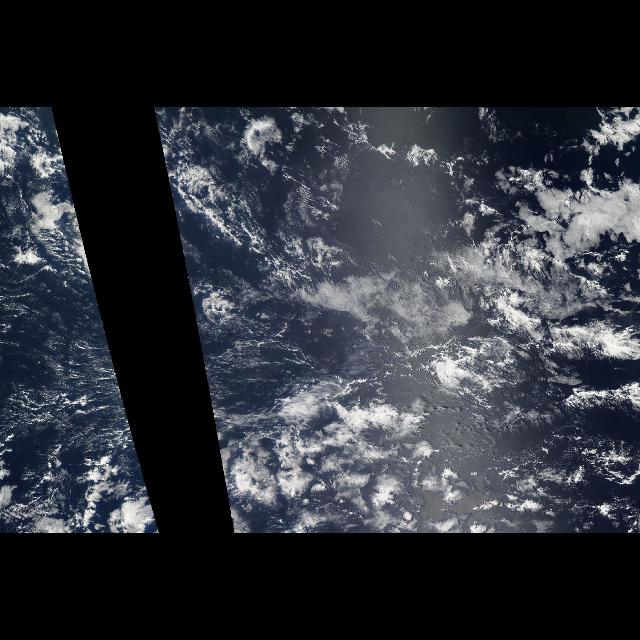Gravel: (230, 369, 628, 528)
Sugar: (22, 286, 128, 412), (188, 286, 274, 412)
